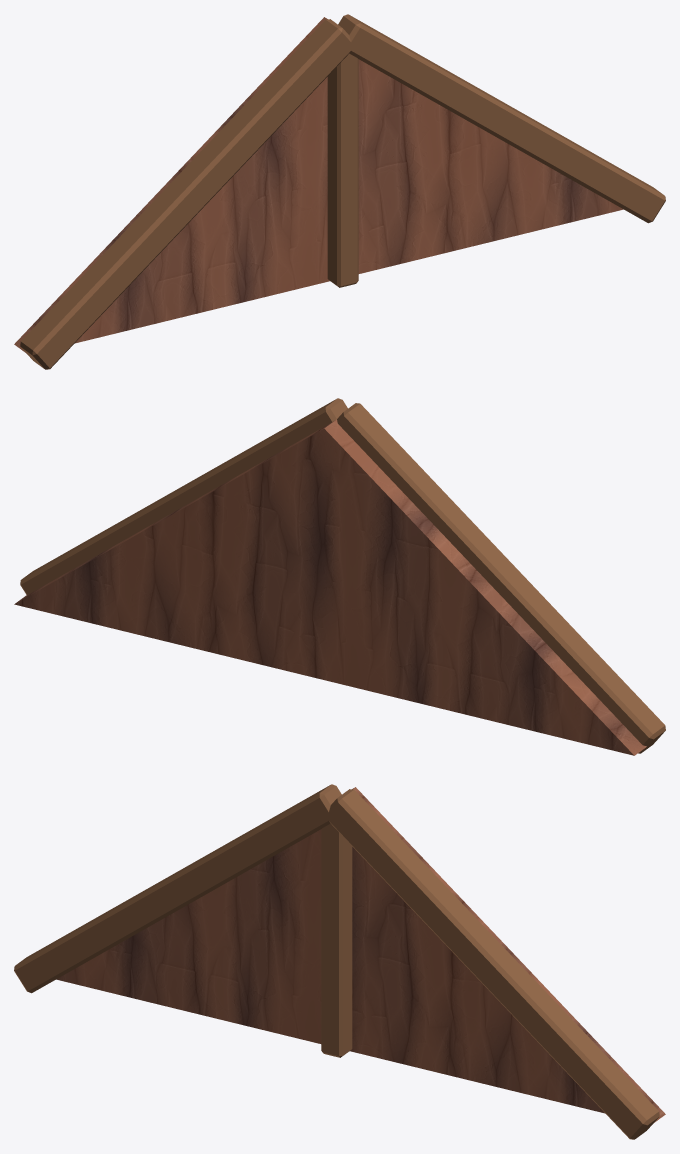
File: Gable_4m.glb
The picture shows the model from 3 angles, top to bottom: view 1: azimuth 30°, elevation 25°; view 2: azimuth 150°, elevation 25°; view 3: azimuth 330°, elevation 25°; orthographic projection.
Visible parts, largest first — view 1: Gable_4m__Gable_4m, Gable_4m__立方体, Gable_4m__立方体.001, Gable_4m__立方体.002; view 2: Gable_4m__Gable_4m, Gable_4m__立方体, Gable_4m__立方体.001; view 3: Gable_4m__Gable_4m, Gable_4m__立方体.001, Gable_4m__立方体, Gable_4m__立方体.002.
Part boxes in pixels (left/top/right/bottom): Gable_4m__Gable_4m: left=14, top=17, right=623, bottom=353; Gable_4m__立方体: left=20, top=19, right=354, bottom=369; Gable_4m__立方体.001: left=338, top=14, right=665, bottom=223; Gable_4m__立方体.002: left=327, top=53, right=358, bottom=287; Gable_4m__Gable_4m: left=14, top=419, right=646, bottom=755; Gable_4m__立方体: left=337, top=403, right=665, bottom=753; Gable_4m__立方体.001: left=20, top=398, right=347, bottom=594; Gable_4m__Gable_4m: left=56, top=787, right=665, bottom=1123; Gable_4m__立方体.001: left=325, top=789, right=659, bottom=1139; Gable_4m__立方体: left=14, top=784, right=341, bottom=993; Gable_4m__立方体.002: left=321, top=823, right=352, bottom=1057.
Bounding box in the file's own units: 4.08 × 1.67 × 0.3.
Materials: 2 (1 with a texture image).
